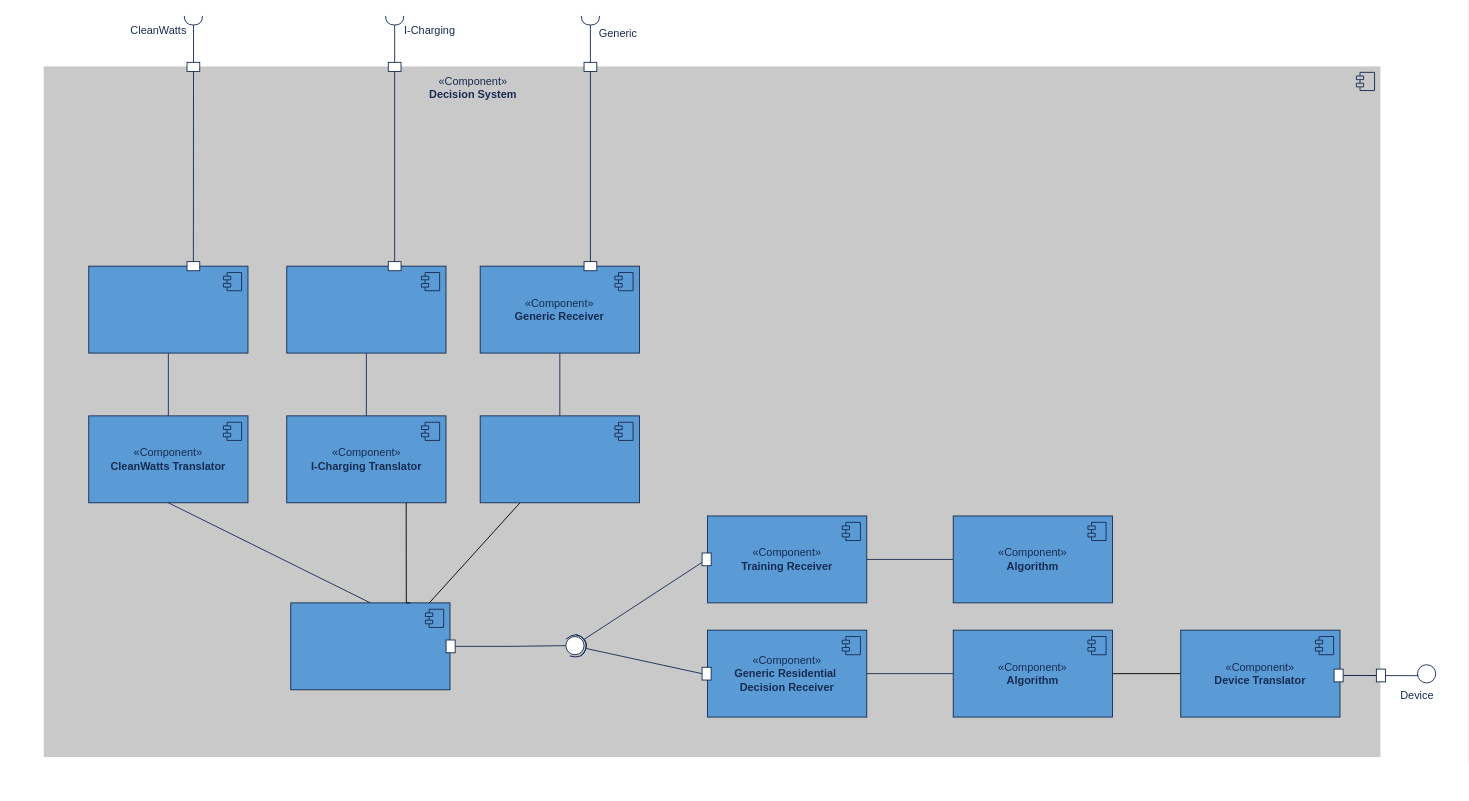
This 1469x801 diagram has some shape labels left out. The centre of each missing label's shape, as x and y in pixels:
«Component» Accumulator: the point at 370,646
«Component» CleanWatts Receiver: the point at 168,309
«Component» Generic Translator: the point at 559,459
«Component» I-Charging Receiver: the point at 366,309
